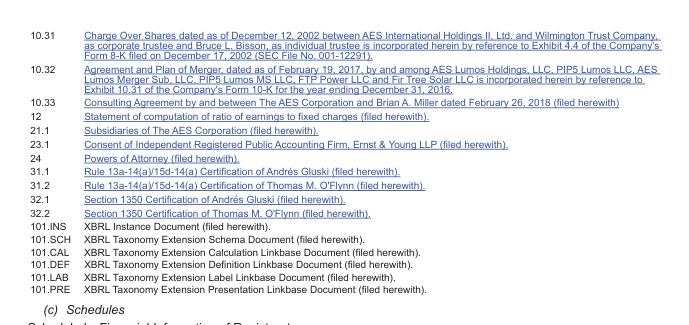table: (29, 28, 658, 294)
table column: (76, 28, 658, 294), (29, 28, 76, 294)
table row: (29, 28, 658, 61), (29, 61, 658, 94), (29, 94, 658, 108), (29, 108, 658, 122), (29, 122, 658, 136), (29, 136, 658, 150), (29, 163, 658, 177), (29, 177, 658, 191), (29, 191, 658, 205), (29, 205, 658, 219), (29, 150, 658, 163), (29, 219, 658, 232), (29, 244, 658, 257), (29, 269, 658, 282), (29, 232, 658, 244), (29, 257, 658, 269), (29, 282, 658, 294)
